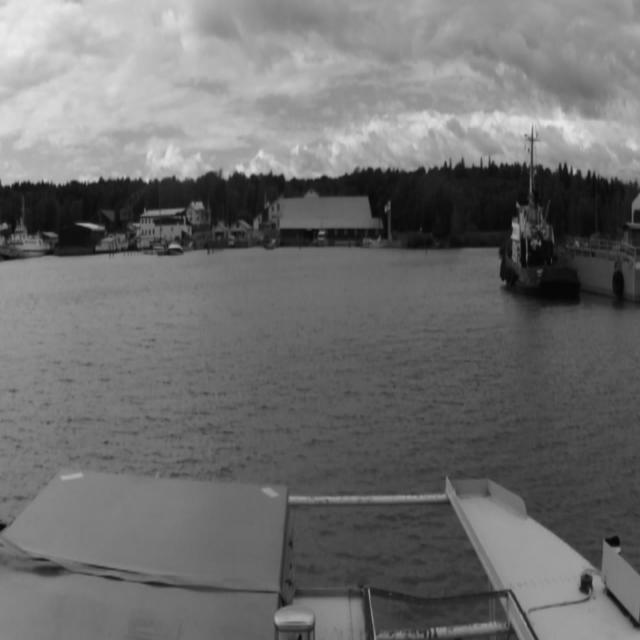ship: (498, 206, 580, 302), (5, 232, 50, 258), (166, 239, 186, 256), (318, 227, 328, 240)
